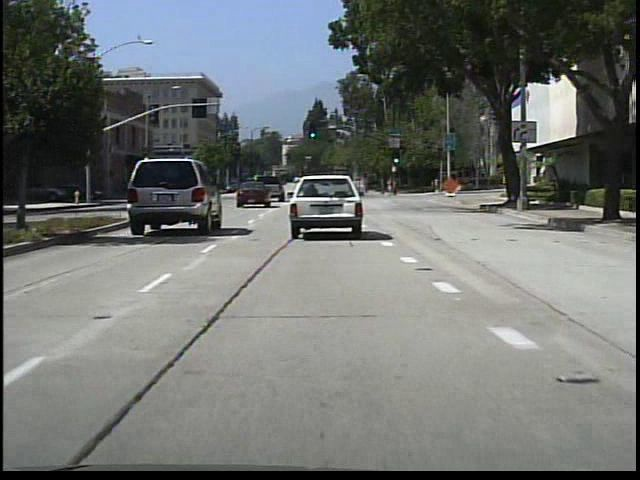person: (383, 172, 396, 199)
